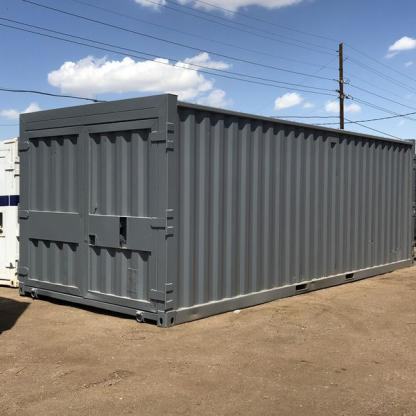Damage: (284, 268, 310, 282), (180, 303, 200, 317), (388, 239, 403, 257), (329, 167, 348, 180), (363, 233, 379, 246)
